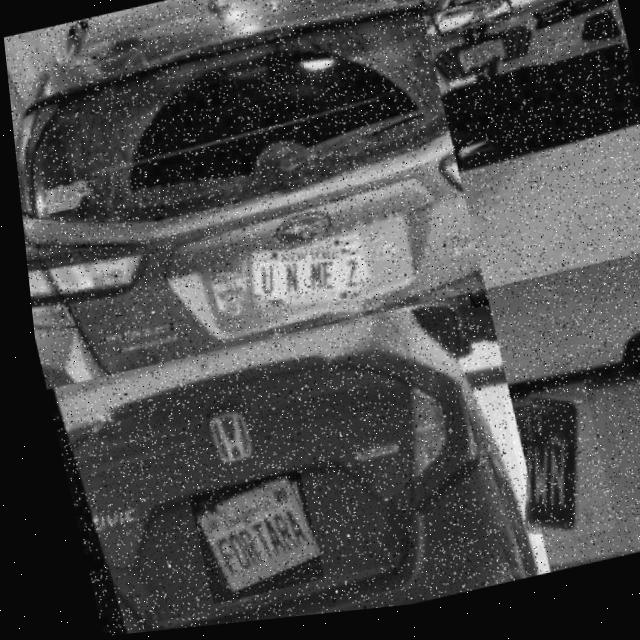LicensePlate: (492, 392, 605, 557), (176, 474, 312, 608), (235, 255, 355, 319), (449, 50, 500, 91), (460, 298, 482, 318)
